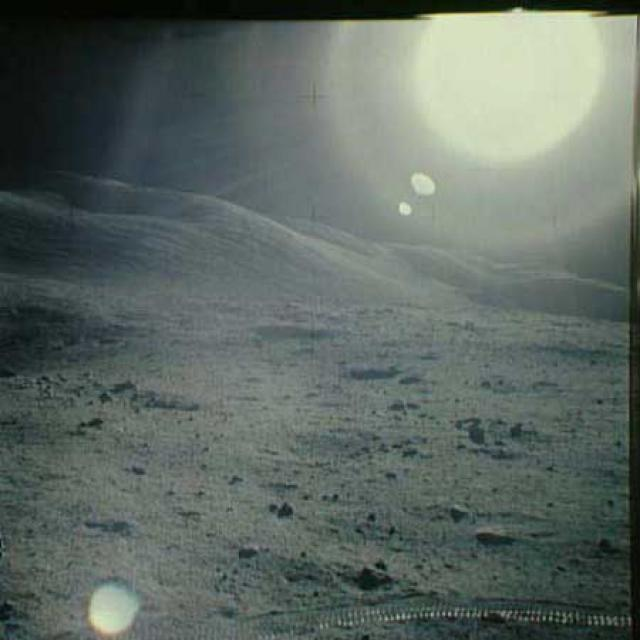crater: (240, 316, 348, 342), (337, 358, 406, 386)
rock: (351, 556, 402, 590), (227, 537, 262, 563), (470, 526, 514, 546)
